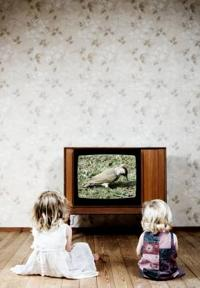person: (16, 190, 99, 280)
